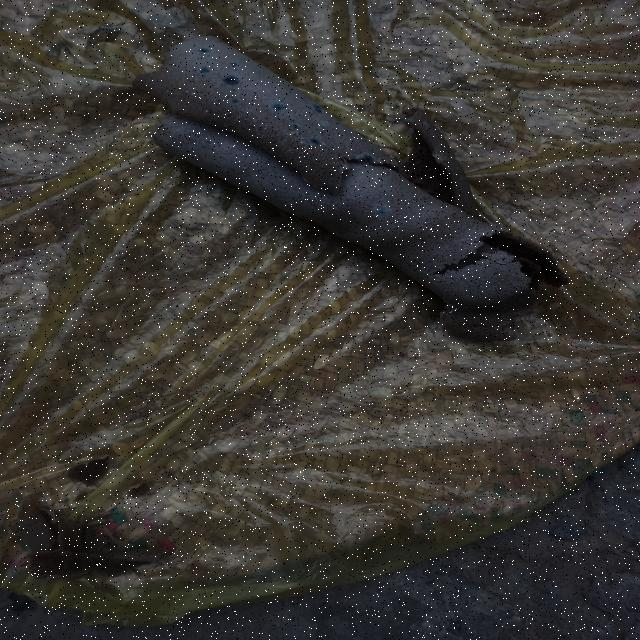injera_mold: (318, 182, 339, 193), (356, 153, 376, 163), (222, 75, 241, 85), (309, 137, 324, 147), (375, 207, 389, 216), (312, 104, 324, 114), (271, 102, 284, 111), (198, 45, 208, 55), (198, 67, 211, 74), (445, 308, 460, 314), (230, 98, 240, 105), (290, 123, 300, 130), (341, 165, 349, 173), (301, 145, 309, 151), (259, 133, 266, 139), (292, 132, 302, 136), (223, 122, 229, 128), (322, 120, 328, 126), (285, 148, 294, 152), (230, 62, 238, 66), (284, 132, 292, 136), (241, 166, 249, 170), (282, 138, 288, 143), (184, 89, 191, 93), (203, 109, 210, 113), (299, 141, 306, 145), (263, 126, 269, 130), (192, 86, 198, 90), (236, 116, 241, 120), (332, 161, 337, 165), (248, 122, 252, 126), (444, 289, 448, 292), (442, 297, 446, 300), (248, 130, 251, 134), (456, 303, 460, 305), (466, 306, 468, 309), (256, 130, 259, 131)
